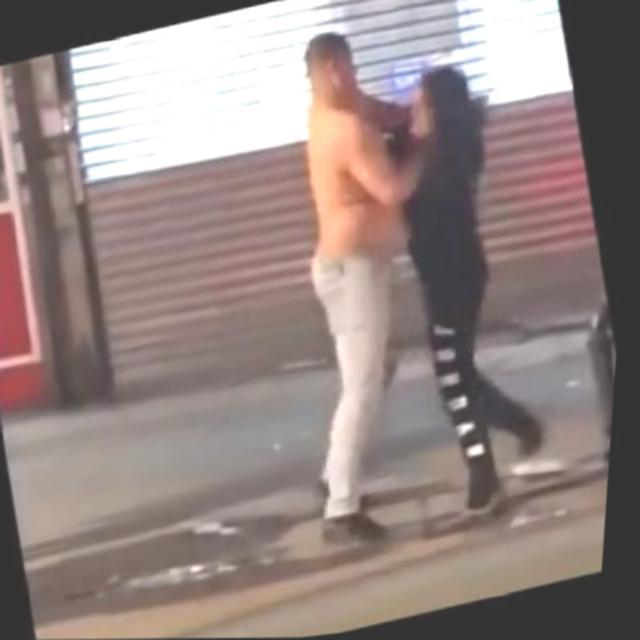fight: (236, 1, 586, 556)
